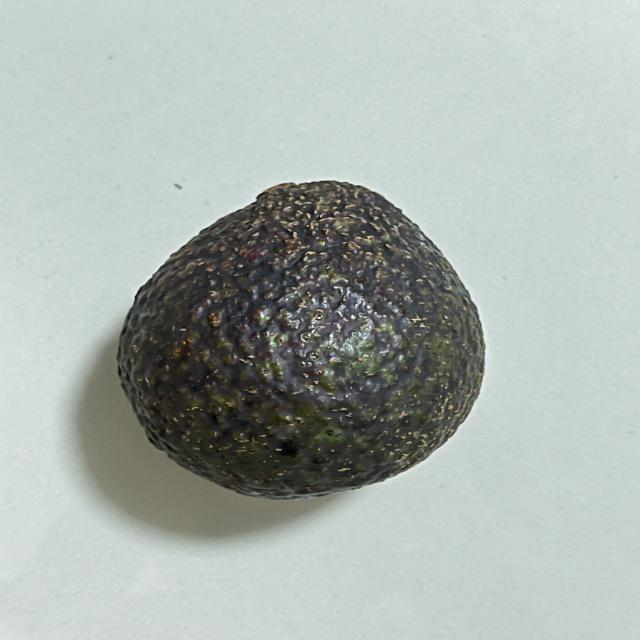Level2: (108, 171, 489, 506)
